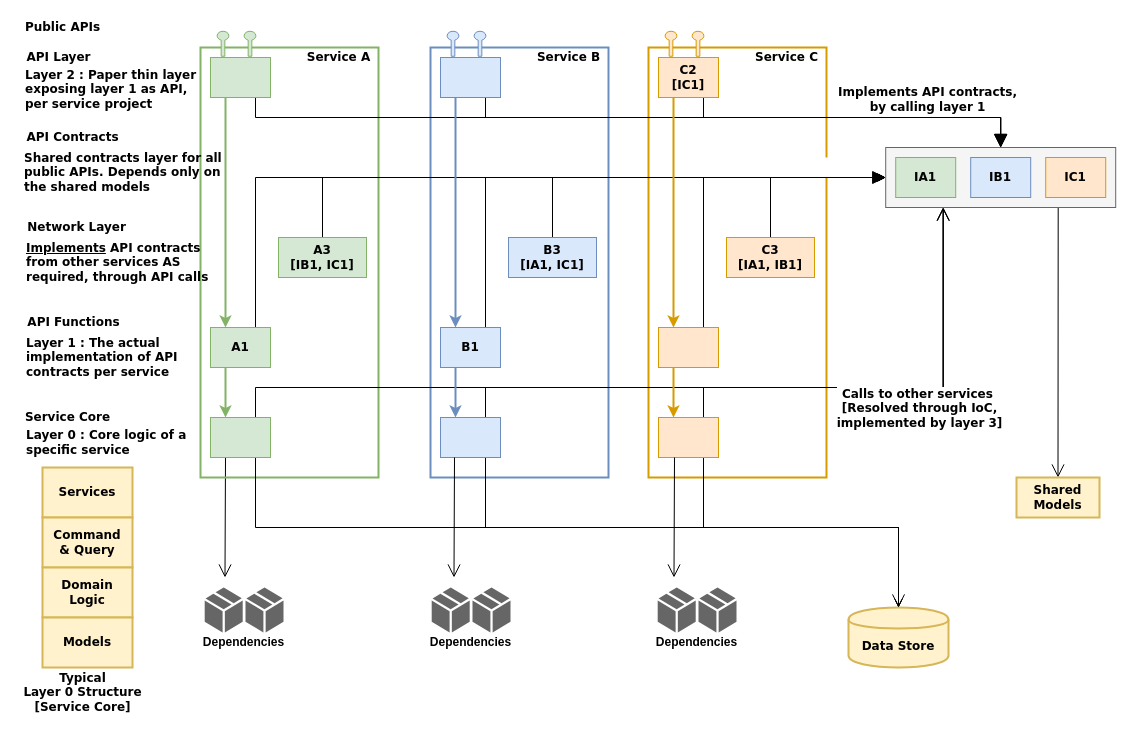
Some shapes in this 1133 by 734 pixel diagram are drawn without their labels. The centre of each missing label's shape, as x and y in pixels:
A0: [240,437]
A2 [IA1]: [240,77]
B0: [470,437]
B2 [IB1]: [470,77]
C0: [688,437]
C1: [688,347]
Implements: [818,167]
